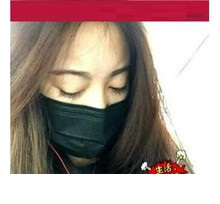face_mask: (28, 23, 132, 160)
